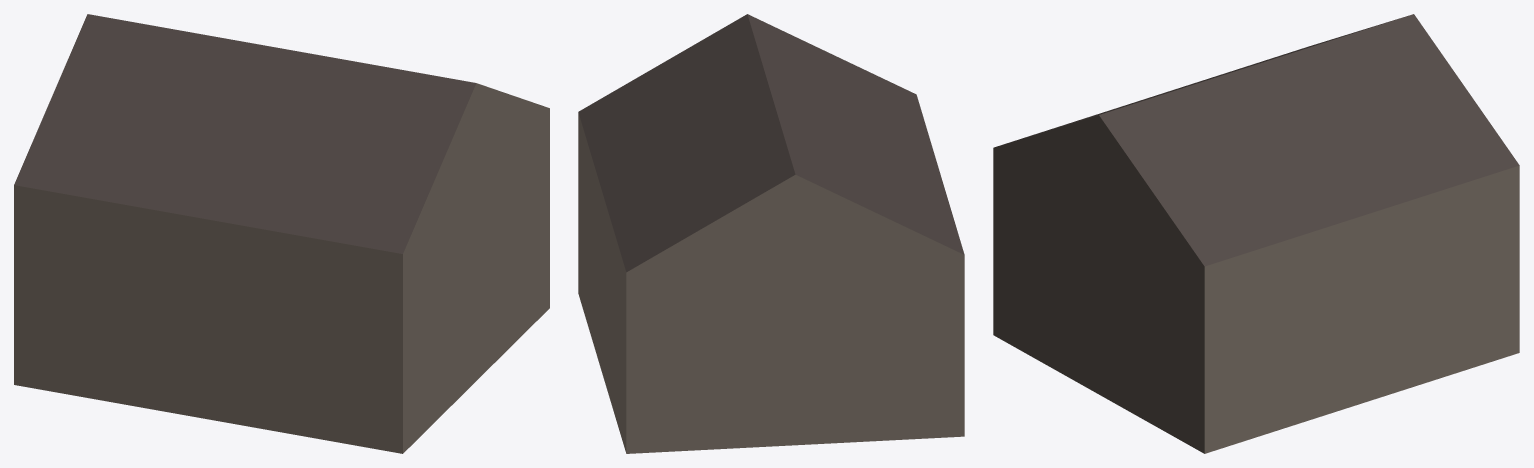
3 views of the same model, side by side, from view 1: azimuth 30°, elevation 25°; view 2: azimuth 150°, elevation 25°; view 3: azimuth 270°, elevation 25° (orthographic). The views are drawn at different scales.
Parts seen in each view (by area): view 1: HP-w1435294182; view 2: HP-w1435294182; view 3: HP-w1435294182.
Part boxes in pixels (bbox=[...]): HP-w1435294182: bbox=[14, 14, 549, 453]; HP-w1435294182: bbox=[578, 14, 964, 453]; HP-w1435294182: bbox=[993, 14, 1519, 453].
Bounding box in the file's own units: 22.66 × 13.42 × 22.92.
